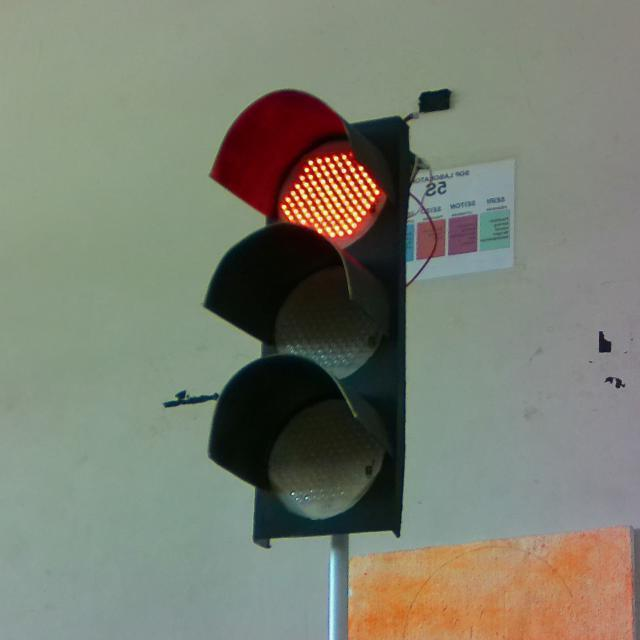red_light: (203, 88, 413, 638)
